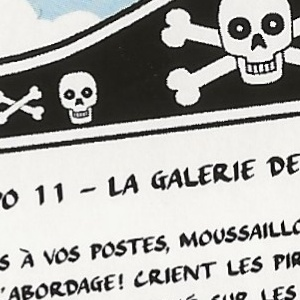Charlie: (124, 92, 176, 209)
